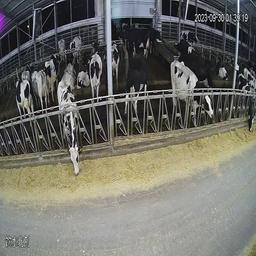cow: (171, 60, 217, 130), (121, 49, 155, 123), (59, 87, 84, 173), (177, 52, 215, 96), (12, 76, 39, 129), (238, 69, 254, 137), (88, 38, 104, 105), (41, 52, 60, 106), (120, 26, 151, 58), (57, 59, 76, 111), (104, 39, 121, 92), (30, 69, 48, 118), (175, 37, 197, 75), (145, 26, 163, 55), (213, 54, 230, 84), (69, 35, 84, 66), (77, 58, 91, 91), (57, 37, 69, 66)
